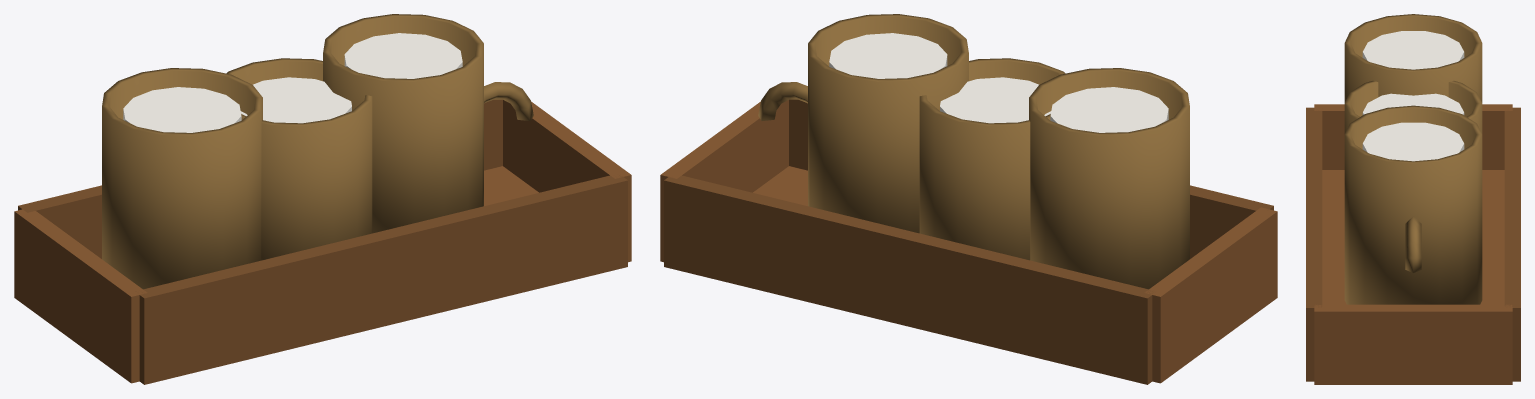
File: Alc_Beer.fbx
The picture shows the model from 3 angles, left to right: view 1: azimuth 30°, elevation 25°; view 2: azimuth 150°, elevation 25°; view 3: azimuth 270°, elevation 25°; orthographic projection. The views are drawn at different scales.
Visible parts, largest first — view 1: Alc_Beer__Stack, Alc_Beer; view 2: Alc_Beer__Stack, Alc_Beer; view 3: Alc_Beer__Stack, Alc_Beer.
Part boxes in pixels (<box>): Alc_Beer__Stack: <box>14,14,631,384</box>; Alc_Beer: <box>219,58,372,260</box>; Alc_Beer__Stack: <box>660,14,1277,384</box>; Alc_Beer: <box>919,58,1072,260</box>; Alc_Beer__Stack: <box>1306,14,1520,384</box>; Alc_Beer: <box>1344,81,1482,133</box>.
Size of the model in its own units: 0.242 by 0.098 by 0.106.
